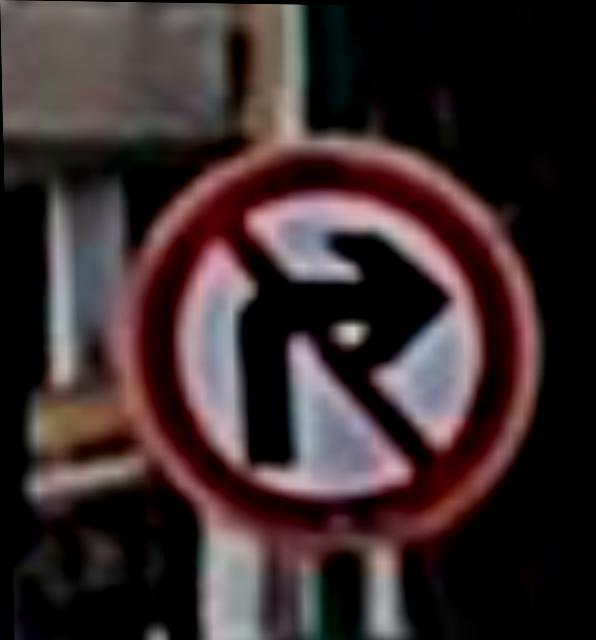not_turn_right: (112, 110, 549, 546)
